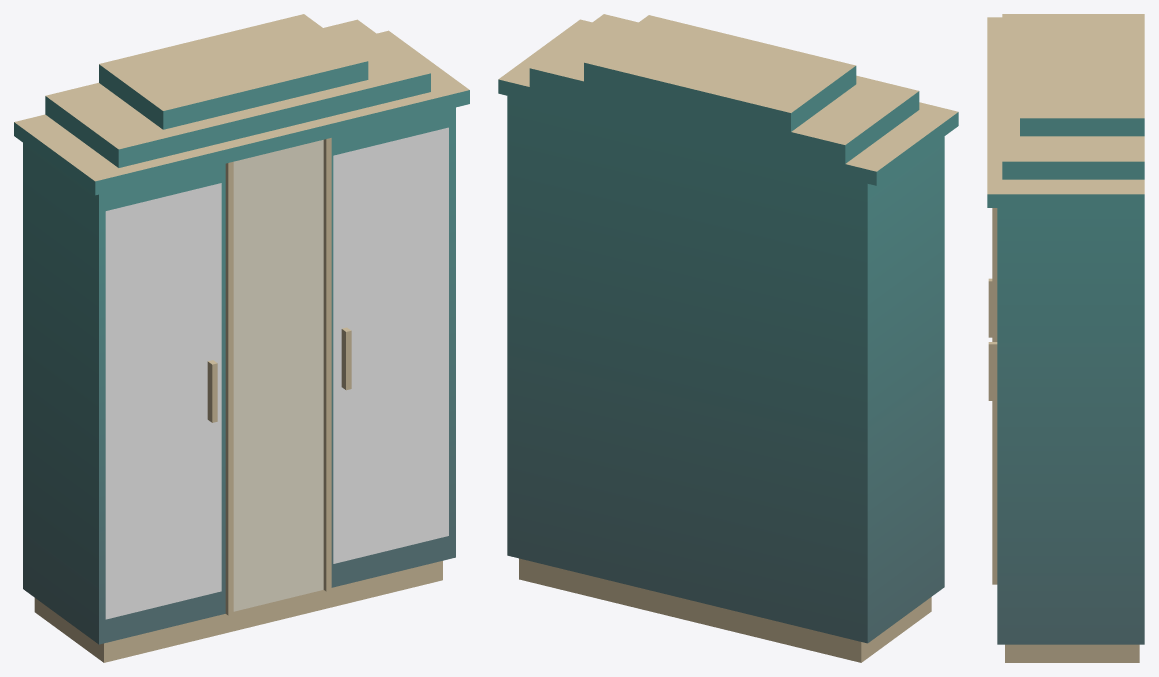
The model's file is KC32__AD_Int_Wardrobe.glb.
3 views of the same model, side by side, from view 1: azimuth 30°, elevation 25°; view 2: azimuth 150°, elevation 25°; view 3: azimuth 270°, elevation 25° (orthographic). The views are drawn at different scales.
Visible parts, largest first — view 1: KC32_ACCENT__AD_Int_Wardrobe, KC32_CORPS__AD_Int_Wardrobe, KC32_BRONZE__AD_Int_Wardrobe, KC32_LUMIERE__AD_Int_Wardrobe; view 2: KC32_CORPS__AD_Int_Wardrobe, KC32_BRONZE__AD_Int_Wardrobe; view 3: KC32_CORPS__AD_Int_Wardrobe, KC32_BRONZE__AD_Int_Wardrobe.
Boxes of the visible parts, bbox=[...] form: KC32_ACCENT__AD_Int_Wardrobe: bbox=[105, 127, 448, 619]; KC32_CORPS__AD_Int_Wardrobe: bbox=[14, 61, 469, 644]; KC32_BRONZE__AD_Int_Wardrobe: bbox=[14, 14, 469, 662]; KC32_LUMIERE__AD_Int_Wardrobe: bbox=[233, 140, 323, 611]; KC32_CORPS__AD_Int_Wardrobe: bbox=[498, 62, 958, 643]; KC32_BRONZE__AD_Int_Wardrobe: bbox=[498, 14, 958, 662]; KC32_CORPS__AD_Int_Wardrobe: bbox=[987, 118, 1144, 644]; KC32_BRONZE__AD_Int_Wardrobe: bbox=[987, 14, 1144, 662].
Bounding box in the file's own units: 1.68 × 2.27 × 0.63.
